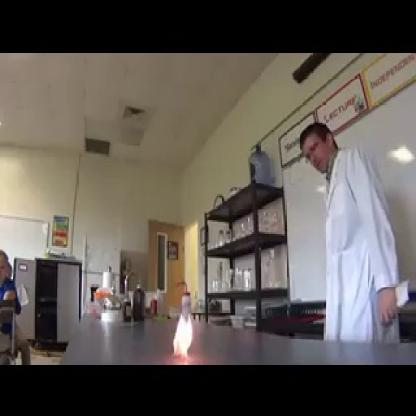fire: (167, 284, 202, 359)
